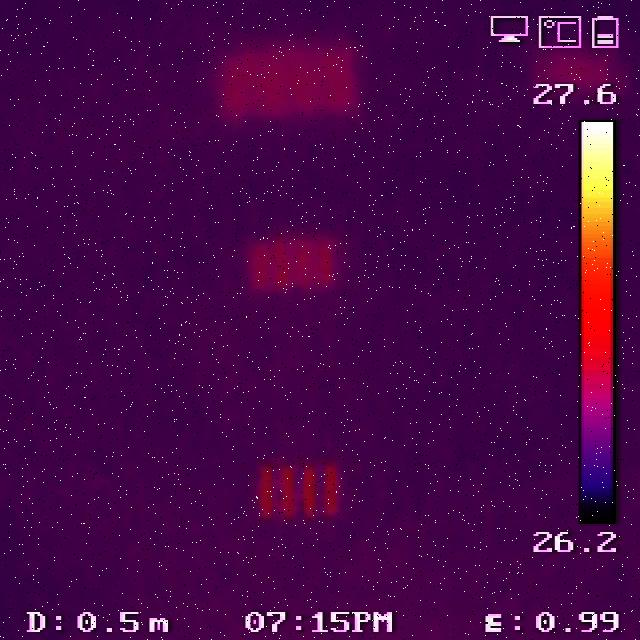Distinguishable 4-bar target: (257, 462, 344, 517)
Indistinguishable 4-bar target: (256, 240, 332, 288)
threshold 4-bar target: (214, 22, 362, 119)
